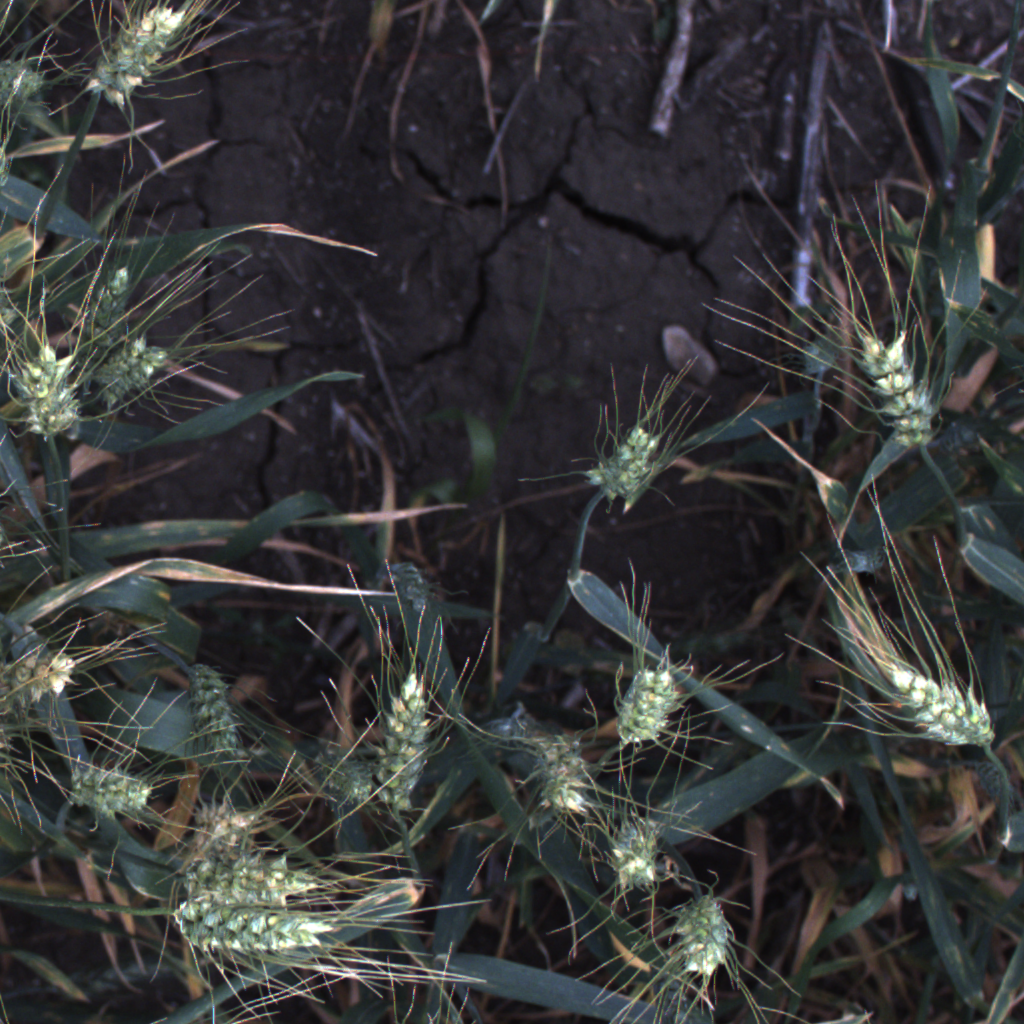wheat_head: (350, 649, 460, 837), (867, 641, 1009, 770), (147, 882, 360, 965), (841, 323, 946, 469), (592, 640, 706, 766), (157, 848, 349, 912), (576, 402, 676, 517), (74, 0, 190, 99), (514, 715, 606, 832), (661, 880, 748, 1002), (5, 321, 80, 460), (587, 805, 685, 909), (168, 647, 249, 766), (68, 250, 140, 380), (63, 739, 165, 822), (0, 642, 91, 719), (89, 334, 170, 419), (183, 797, 277, 860)
